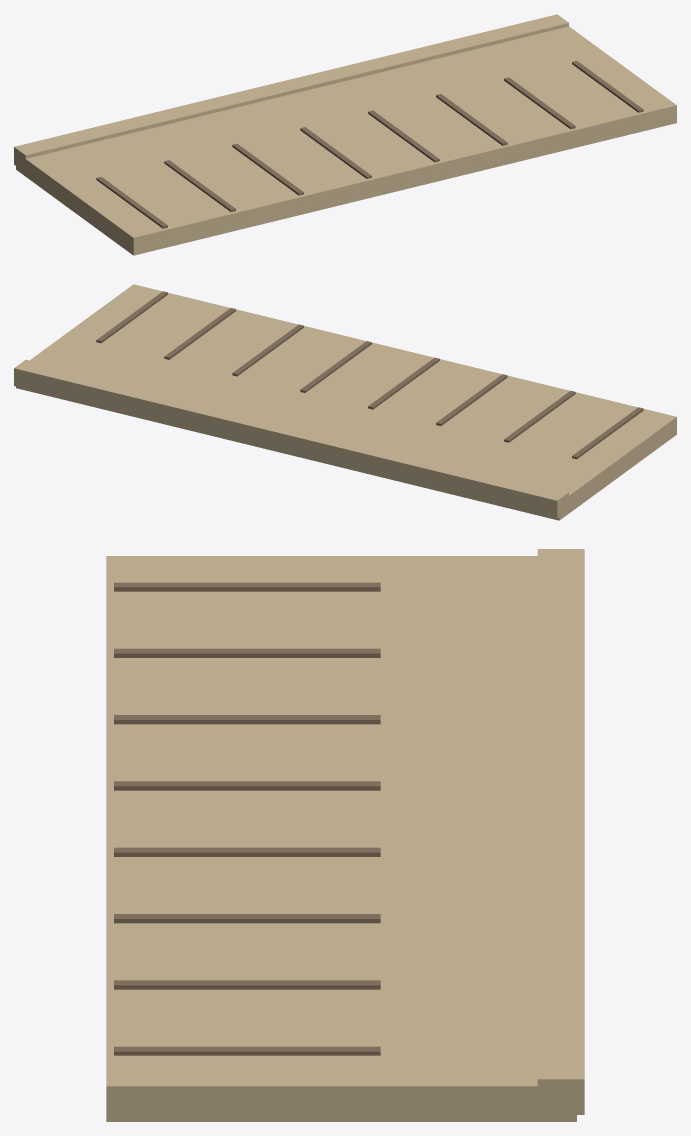
Rendered from prop-horn-comb-blank.fbx.
3 views of the same model, one above another, from view 1: azimuth 30°, elevation 25°; view 2: azimuth 150°, elevation 25°; view 3: azimuth 270°, elevation 25° (orthographic). The views are drawn at different scales.
Visible parts, largest first — view 1: prop-horn-comb-blank; view 2: prop-horn-comb-blank; view 3: prop-horn-comb-blank.
Part boxes in pixels (bbox=[...]): prop-horn-comb-blank: bbox=[14, 14, 676, 255]; prop-horn-comb-blank: bbox=[14, 284, 676, 520]; prop-horn-comb-blank: bbox=[106, 549, 584, 1121].
Bounding box in the file's own units: 16 × 0.6 × 6.1.
